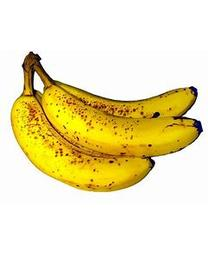banana: (10, 51, 202, 193)
